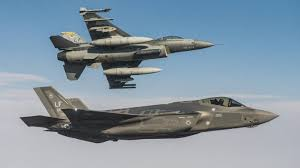fighter: (22, 83, 281, 146), (48, 5, 218, 90)
